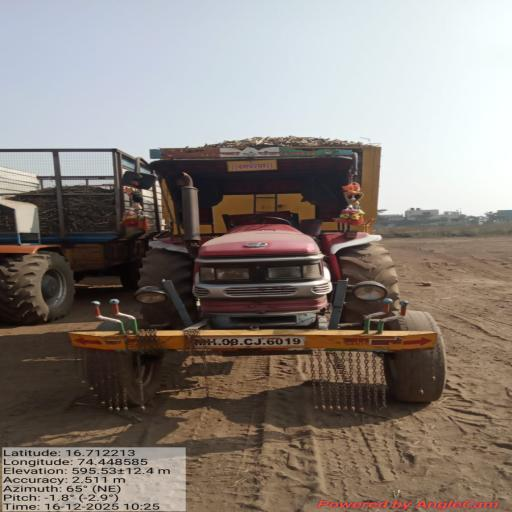number_plate: (198, 337, 305, 347)
